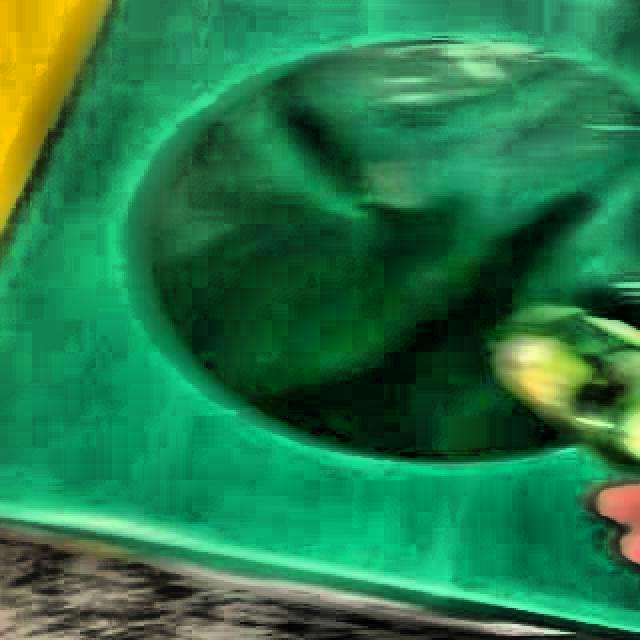glass: (496, 306, 640, 473)
